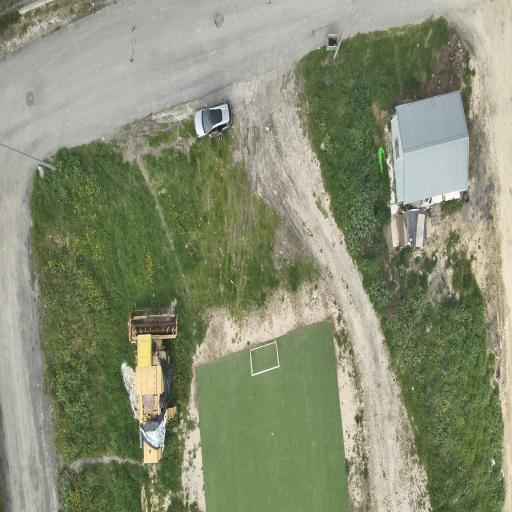car: (195, 101, 233, 137)
harvester: (129, 304, 177, 463)
